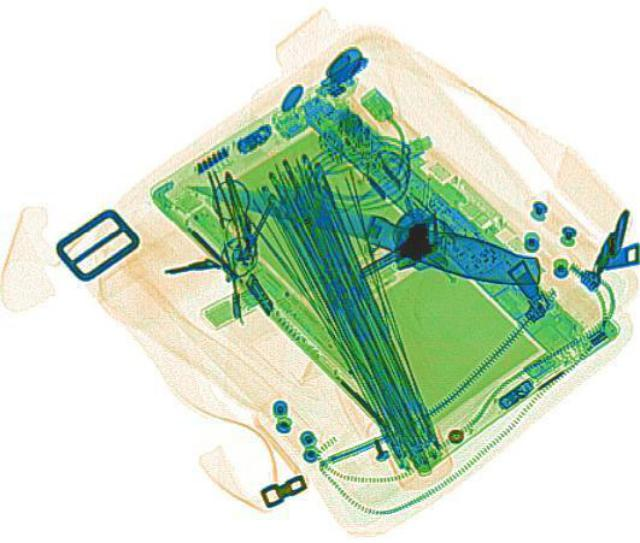Knife: (178, 166, 548, 291)
